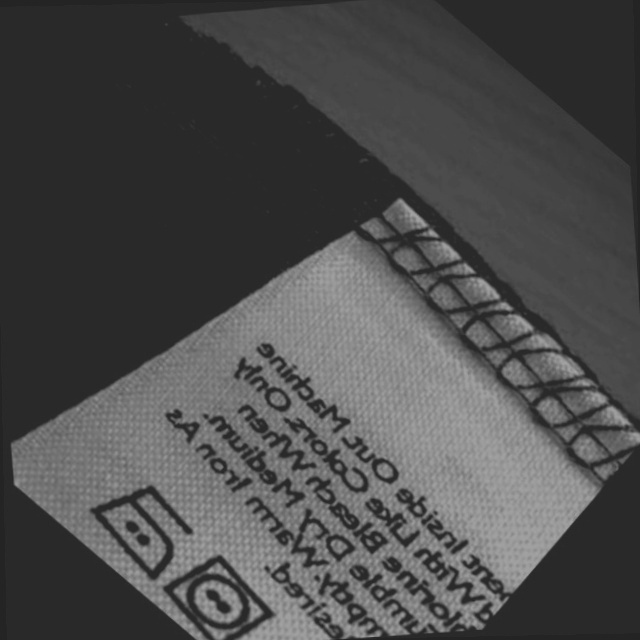iron_medium: (82, 481, 194, 582)
tumble_dry_medium: (158, 553, 274, 640)
